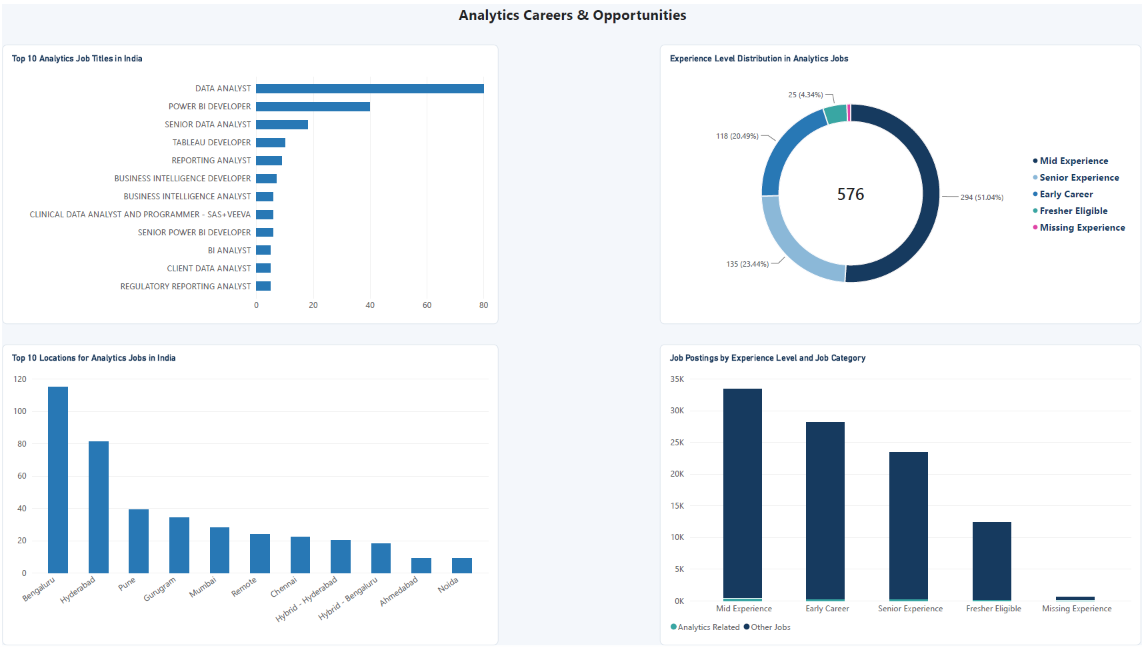

What the dashboard file says about the page in this screenshot:
{"tool":"powerbi","page":{"name":"Page 2","canvas":[1920,1080],"ordinal":1},"visuals":[{"type":"textbox","box":[700.2,0,521.6,62.4],"z":0},{"type":"clusteredBarChart","title":"Top 10 Analytics Job Titles in India","fields":{"Category":["Job Market.NORMALIZED_JOB_TITLE"],"Y":["CountNonNull(Job Market.RECORD_ID)"]},"box":[0,68,836.2,470.6],"z":1000},{"type":"clusteredColumnChart","title":"Top 10 Locations for Analytics Jobs in India","fields":{"Category":["Job Market.LOCATION"],"Y":["CountNonNull(Job Market.RECORD_ID)"]},"box":[0,572.6,836.2,507.4],"z":2000},{"type":"donutChart","title":"Experience Level Distribution in Analytics Jobs","fields":{"Category":["Job Market.EXPERIENCE_CATEGORY"],"Y":["CountNonNull(Job Market.RECORD_ID)"]},"box":[1108.4,68,810.7,470.6],"z":3000},{"type":"columnChart","title":"Job Postings by Experience Level and Job Category","fields":{"Category":["Job Market.EXPERIENCE_CATEGORY"],"Series":["Job Market.JOB_CATEGORY"],"Y":["CountNonNull(Job Market.RECORD_ID)"]},"box":[1108.4,572.6,810.7,507.4],"z":4000}]}

Visuals, with their boxes in screenshot pixels (x1, y1, x2, y2), scaled from the page's 1920x1080 canvas onto the 1142x647 screenshot:
textbox: {"left": 416, "top": 0, "right": 727, "bottom": 37}
"Top 10 Analytics Job Titles in India" clusteredBarChart: {"left": 0, "top": 41, "right": 497, "bottom": 323}
"Top 10 Locations for Analytics Jobs in India" clusteredColumnChart: {"left": 0, "top": 343, "right": 497, "bottom": 646}
"Experience Level Distribution in Analytics Jobs" donutChart: {"left": 659, "top": 41, "right": 1141, "bottom": 323}
"Job Postings by Experience Level and Job Category" columnChart: {"left": 659, "top": 343, "right": 1141, "bottom": 646}
